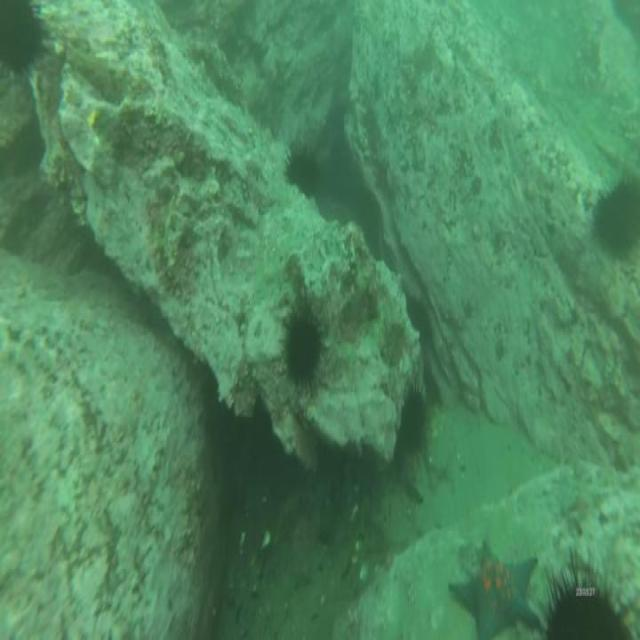echinus: (545, 584, 631, 640), (599, 177, 640, 256), (0, 0, 39, 71), (285, 318, 319, 382), (402, 389, 426, 460), (286, 150, 318, 193)
starfish: (447, 540, 541, 640)
